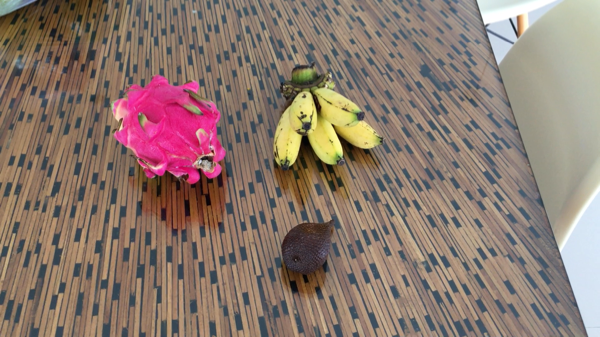banana: (268, 62, 382, 172)
dragon fruit: (116, 79, 228, 184)
snake fruit: (284, 218, 340, 271)
